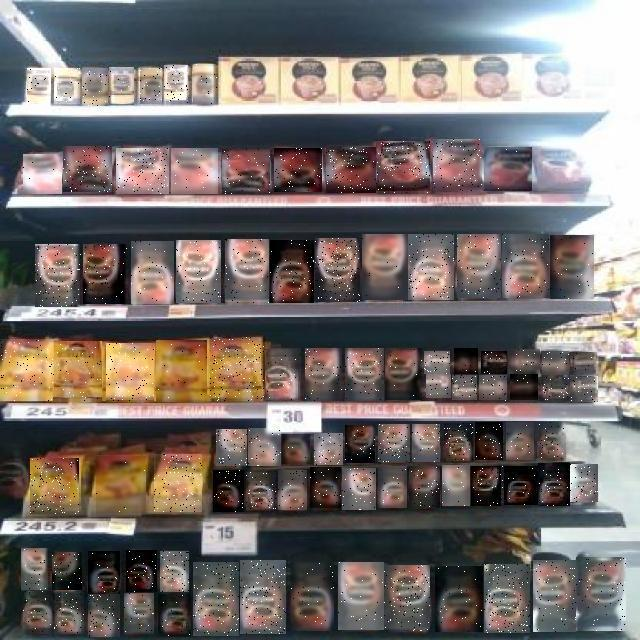Coffee: (576, 557, 626, 631), (210, 337, 265, 401), (240, 560, 286, 634), (193, 562, 239, 636), (0, 339, 54, 401), (485, 564, 531, 633), (435, 566, 483, 632), (156, 340, 207, 402), (338, 562, 384, 630), (533, 560, 576, 632), (385, 566, 431, 632), (409, 235, 455, 301), (363, 235, 409, 301), (502, 234, 549, 298), (53, 342, 102, 402), (291, 563, 334, 631), (96, 457, 146, 515), (36, 244, 82, 307), (315, 238, 360, 302), (176, 240, 221, 303), (457, 234, 501, 298), (551, 235, 595, 299), (225, 240, 269, 304), (376, 142, 430, 194), (155, 454, 203, 512), (106, 344, 154, 402), (271, 240, 315, 303), (30, 458, 79, 514), (131, 241, 174, 304), (84, 244, 128, 304), (434, 140, 484, 192), (116, 148, 169, 194), (327, 147, 377, 193), (63, 146, 112, 192), (172, 148, 220, 194), (222, 149, 270, 194), (485, 147, 533, 191), (275, 148, 323, 192), (345, 348, 384, 401), (306, 348, 344, 401), (266, 348, 304, 400), (386, 348, 424, 400), (23, 154, 62, 194), (342, 468, 376, 510), (158, 594, 191, 637), (538, 462, 570, 506), (88, 551, 120, 594), (88, 594, 120, 637), (504, 466, 538, 505), (409, 466, 440, 508), (310, 468, 341, 510), (213, 470, 244, 512), (126, 550, 157, 592), (472, 466, 504, 506), (54, 592, 84, 634), (124, 594, 154, 636), (248, 428, 281, 466), (378, 467, 407, 509), (23, 592, 52, 634), (378, 424, 410, 462), (160, 551, 189, 592), (216, 430, 247, 468), (22, 548, 50, 590), (278, 470, 307, 510), (442, 465, 470, 506), (345, 425, 375, 463), (246, 472, 276, 510), (52, 553, 82, 591), (444, 423, 473, 462), (506, 422, 534, 460), (475, 423, 503, 461), (412, 424, 440, 462), (570, 464, 598, 502), (539, 422, 566, 460), (83, 68, 109, 106), (194, 64, 218, 104), (109, 67, 134, 105), (54, 68, 80, 104), (314, 433, 343, 465), (164, 66, 188, 104), (27, 68, 51, 104), (282, 434, 310, 464), (508, 350, 540, 376), (140, 68, 162, 104), (479, 376, 507, 402), (510, 376, 538, 402), (570, 376, 598, 402), (542, 351, 569, 375), (542, 377, 569, 401), (452, 375, 477, 400), (454, 349, 478, 375), (570, 352, 596, 376), (426, 374, 451, 398), (481, 351, 507, 374), (424, 351, 450, 374)
